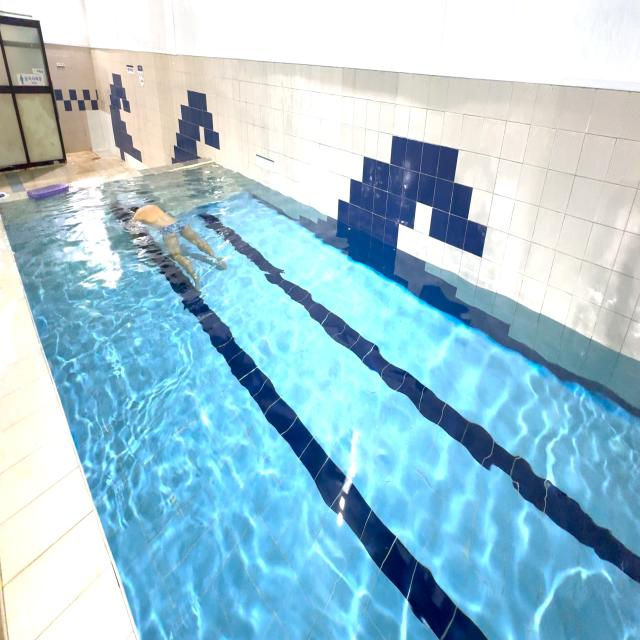Drowning: (119, 190, 227, 307)
